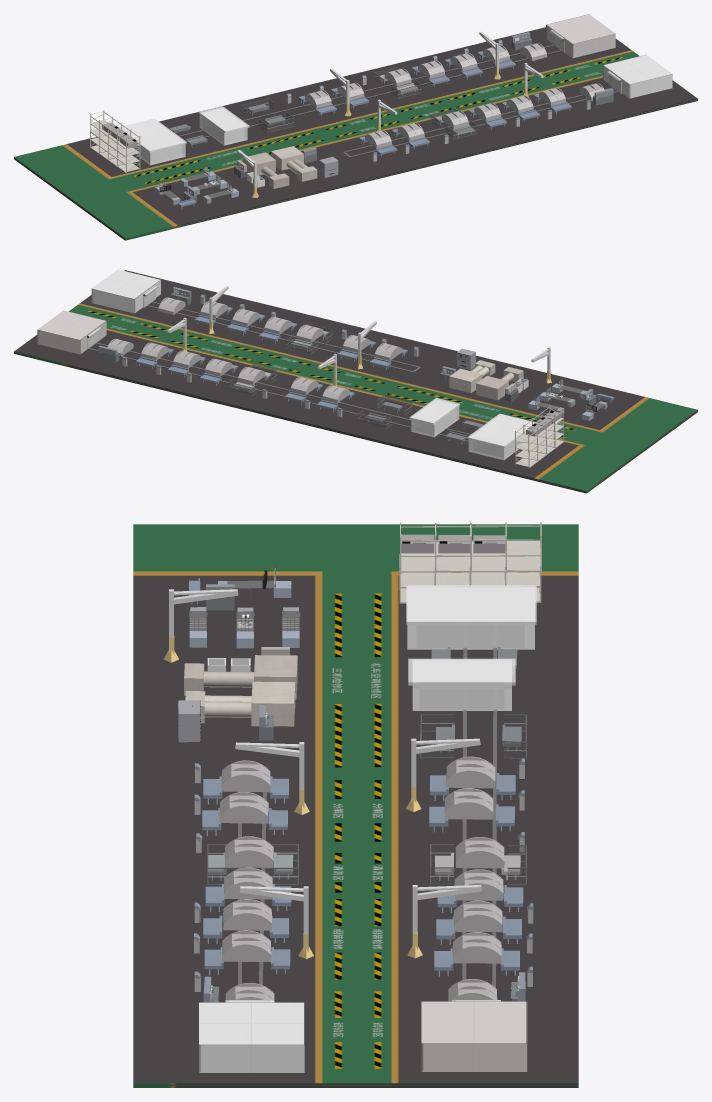
The model's file is aircondition_production_line_nolights.glb.
3 renders of one model, top to bottom at view 1: azimuth 30°, elevation 25°; view 2: azimuth 150°, elevation 25°; view 3: azimuth 270°, elevation 25°, orthographic. The views are drawn at different scales.
Visible parts, largest first — view 1: 81CA0662-7061-4C68-9825-18976ADB30FD, 32AEA8EC-AB4A-466B-BA4E-52C44D08A70D, A664A524-4DAA-4F16-AB8A-2F121007DA0F, Object005_0 (×2), D92429B9-423D-4EFD-9489-D3ADB96FAD1F, 2C3C1741-9D08-44CC-91F3-1745B205F38C, Object005_2 (×2), 42707FFD-EC81-460A-BDEA-0EF75EDC2A18, 5336D3F6-7406-4804-99C8-1725895CEC4E, Lo-万能方盒子_01, 88FBA09C-BA48-4D2B-8C4B-BE719F98D85E, Lo-BODY_01; view 2: 81CA0662-7061-4C68-9825-18976ADB30FD, 32AEA8EC-AB4A-466B-BA4E-52C44D08A70D, A664A524-4DAA-4F16-AB8A-2F121007DA0F, Object005_0 (×2), D92429B9-423D-4EFD-9489-D3ADB96FAD1F, 2C3C1741-9D08-44CC-91F3-1745B205F38C, Object005_4 (×2), 42707FFD-EC81-460A-BDEA-0EF75EDC2A18, Lo-万能方盒子_01, 5336D3F6-7406-4804-99C8-1725895CEC4E, 88FBA09C-BA48-4D2B-8C4B-BE719F98D85E, 备份1002; view 3: 81CA0662-7061-4C68-9825-18976ADB30FD, 备份1002 (×13), A664A524-4DAA-4F16-AB8A-2F121007DA0F, 32AEA8EC-AB4A-466B-BA4E-52C44D08A70D, Object005_0 (×2), D92429B9-423D-4EFD-9489-D3ADB96FAD1F, Object005_3 (×2), 2C3C1741-9D08-44CC-91F3-1745B205F38C, 5336D3F6-7406-4804-99C8-1725895CEC4E, 42707FFD-EC81-460A-BDEA-0EF75EDC2A18, Lo-万能方盒子_01, Lo-BODY_01 (+1 smaller).
Boxes of the visible parts, x1,y1,x2,y2 form: 81CA0662-7061-4C68-9825-18976ADB30FD: (14, 27, 697, 240); 32AEA8EC-AB4A-466B-BA4E-52C44D08A70D: (90, 40, 590, 209); A664A524-4DAA-4F16-AB8A-2F121007DA0F: (120, 108, 247, 165); Object005_0 (×2): (546, 14, 671, 84); D92429B9-423D-4EFD-9489-D3ADB96FAD1F: (118, 106, 249, 152); 2C3C1741-9D08-44CC-91F3-1745B205F38C: (240, 67, 477, 139); Object005_2 (×2): (572, 33, 672, 98); 42707FFD-EC81-460A-BDEA-0EF75EDC2A18: (132, 44, 617, 157); 5336D3F6-7406-4804-99C8-1725895CEC4E: (271, 146, 303, 170); Lo-万能方盒子_01: (243, 152, 275, 175); 88FBA09C-BA48-4D2B-8C4B-BE719F98D85E: (550, 30, 621, 94); Lo-BODY_01: (319, 156, 338, 177); 81CA0662-7061-4C68-9825-18976ADB30FD: (14, 270, 697, 493); 32AEA8EC-AB4A-466B-BA4E-52C44D08A70D: (122, 294, 614, 467); A664A524-4DAA-4F16-AB8A-2F121007DA0F: (411, 400, 533, 460); Object005_0 (×2): (37, 269, 160, 339); D92429B9-423D-4EFD-9489-D3ADB96FAD1F: (409, 397, 535, 447); 2C3C1741-9D08-44CC-91F3-1745B205F38C: (229, 323, 412, 428); Object005_4 (×2): (37, 289, 134, 354); 42707FFD-EC81-460A-BDEA-0EF75EDC2A18: (88, 301, 518, 453); Lo-万能方盒子_01: (476, 375, 508, 400); 5336D3F6-7406-4804-99C8-1725895CEC4E: (449, 368, 482, 393); 88FBA09C-BA48-4D2B-8C4B-BE719F98D85E: (87, 285, 157, 349); 备份1002: (374, 343, 402, 360); 81CA0662-7061-4C68-9825-18976ADB30FD: (133, 524, 578, 1087); 备份1002 (×13): (219, 756, 504, 1001); A664A524-4DAA-4F16-AB8A-2F121007DA0F: (407, 587, 534, 710); 32AEA8EC-AB4A-466B-BA4E-52C44D08A70D: (189, 522, 541, 991); Object005_0 (×2): (199, 1001, 527, 1044); D92429B9-423D-4EFD-9489-D3ADB96FAD1F: (406, 585, 536, 685); Object005_3 (×2): (199, 1043, 527, 1072); 2C3C1741-9D08-44CC-91F3-1745B205F38C: (207, 714, 526, 885); 5336D3F6-7406-4804-99C8-1725895CEC4E: (251, 681, 295, 726); 42707FFD-EC81-460A-BDEA-0EF75EDC2A18: (238, 647, 497, 987); Lo-万能方盒子_01: (254, 655, 297, 699); Lo-BODY_01: (178, 700, 200, 742).
Size of what is drawn, in the model's own units: 83.86 by 5.24 by 28.22.
164 materials, 75 textured.
